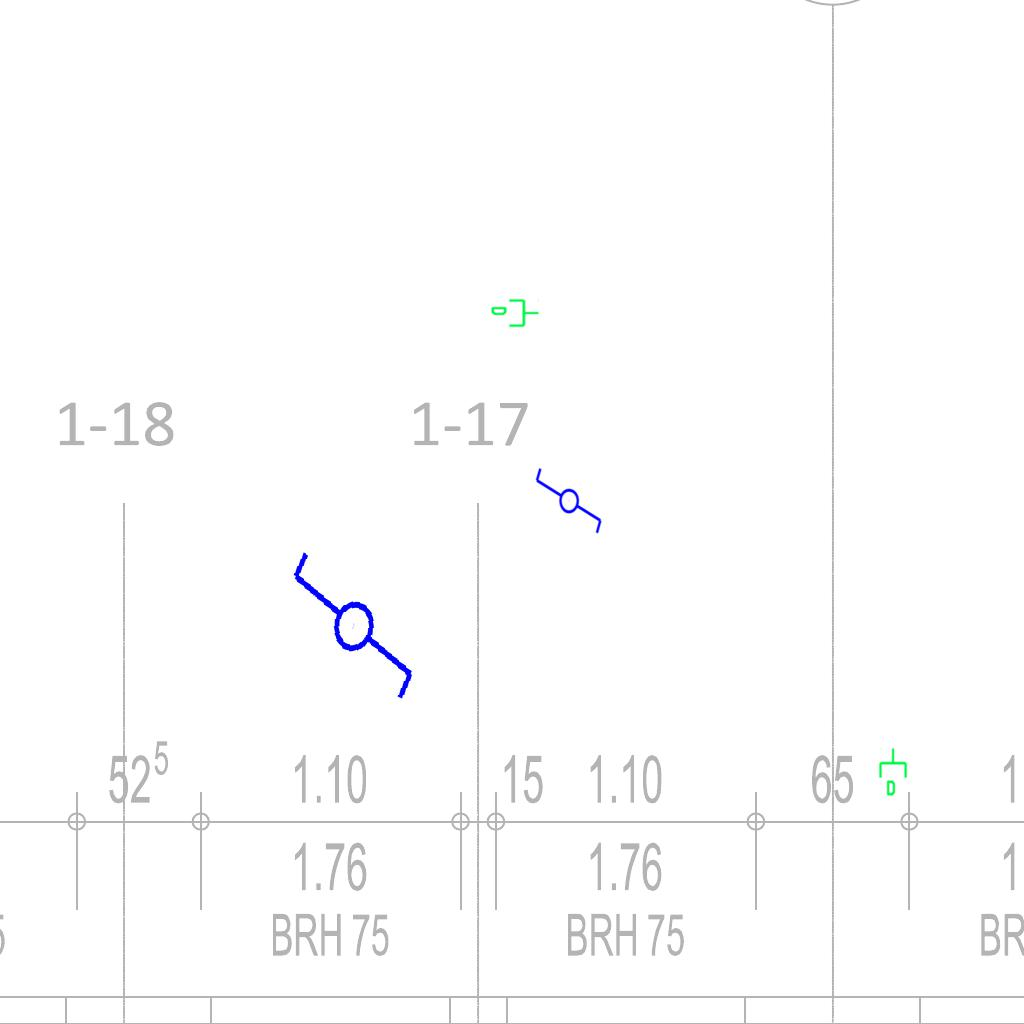Datenanschluss_einfach: (877, 747, 911, 797), (490, 297, 540, 331)
Wechselschalter: (268, 546, 433, 722), (532, 466, 604, 544)
